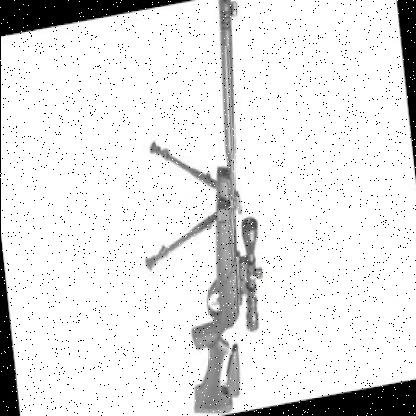rifle: (152, 0, 287, 416)
